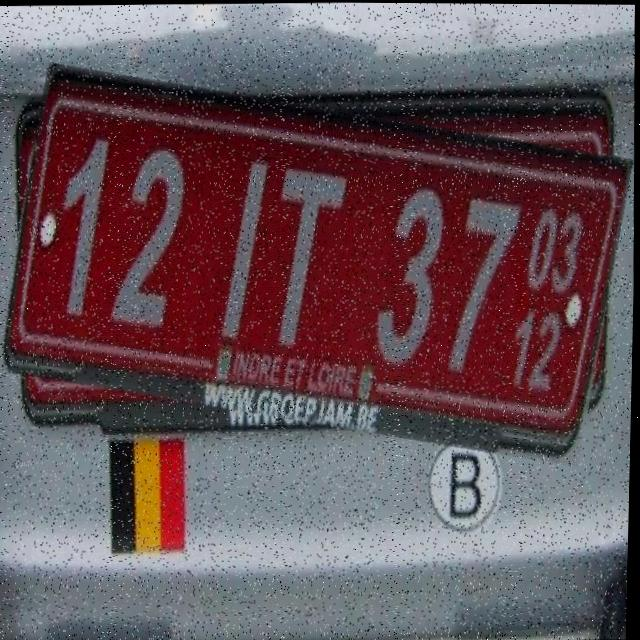LicensePlate: (0, 77, 629, 451)
